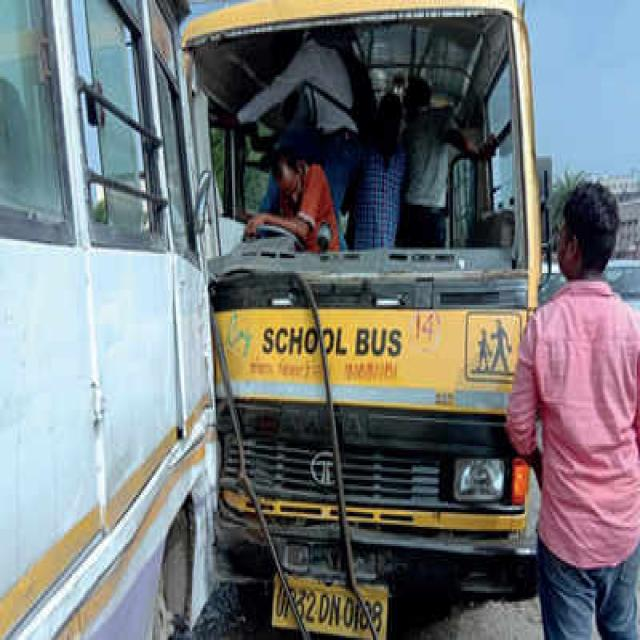accident: (182, 0, 541, 636)
